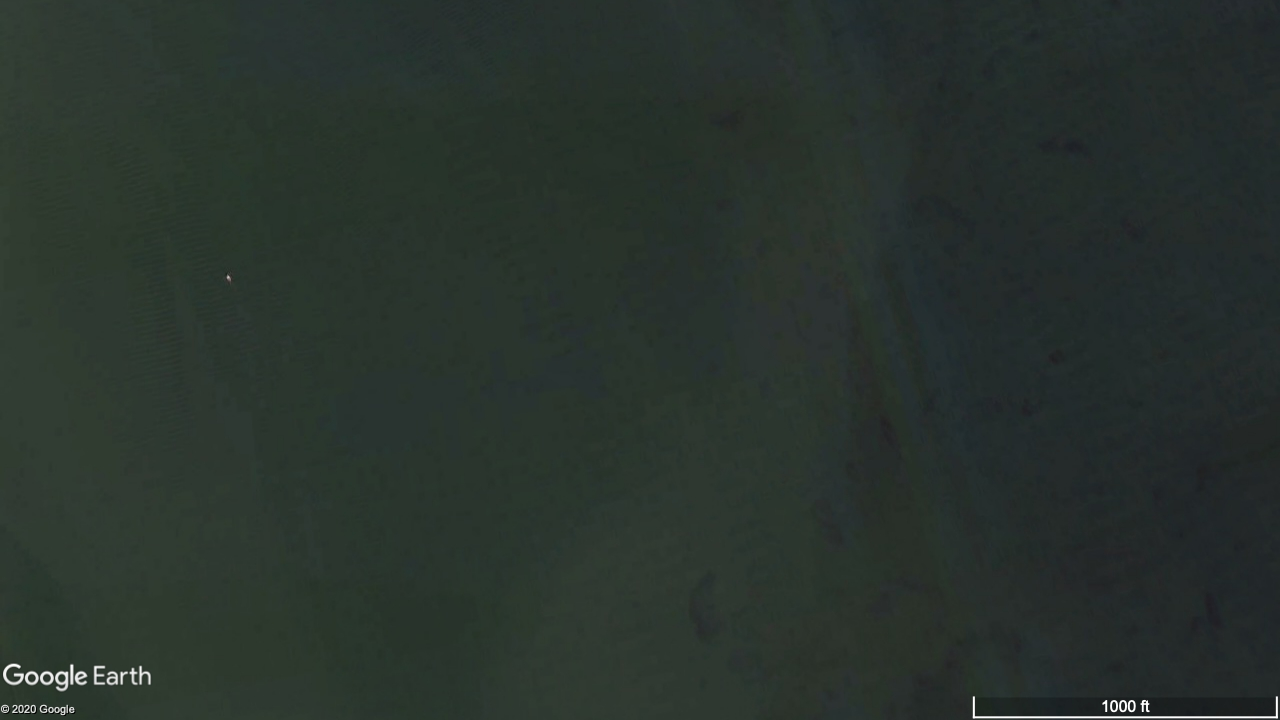satboat: (226, 273, 232, 285)
